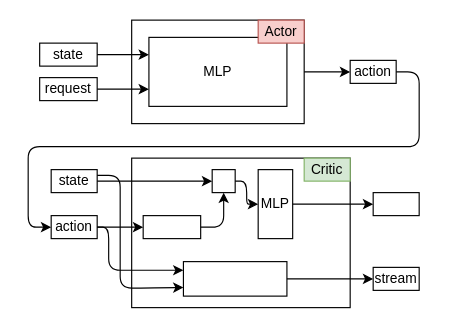
The diagram is 449 pixels wide and 328 high, and some of its shapes have lost their labels. Here are the shapes that lost their labels. From the top down, the box of each, then its label:
(211, 168, 235, 193): cat
(372, 191, 419, 216): output
(142, 214, 201, 239): conv1d
(182, 260, 287, 296): Lasso regressor
